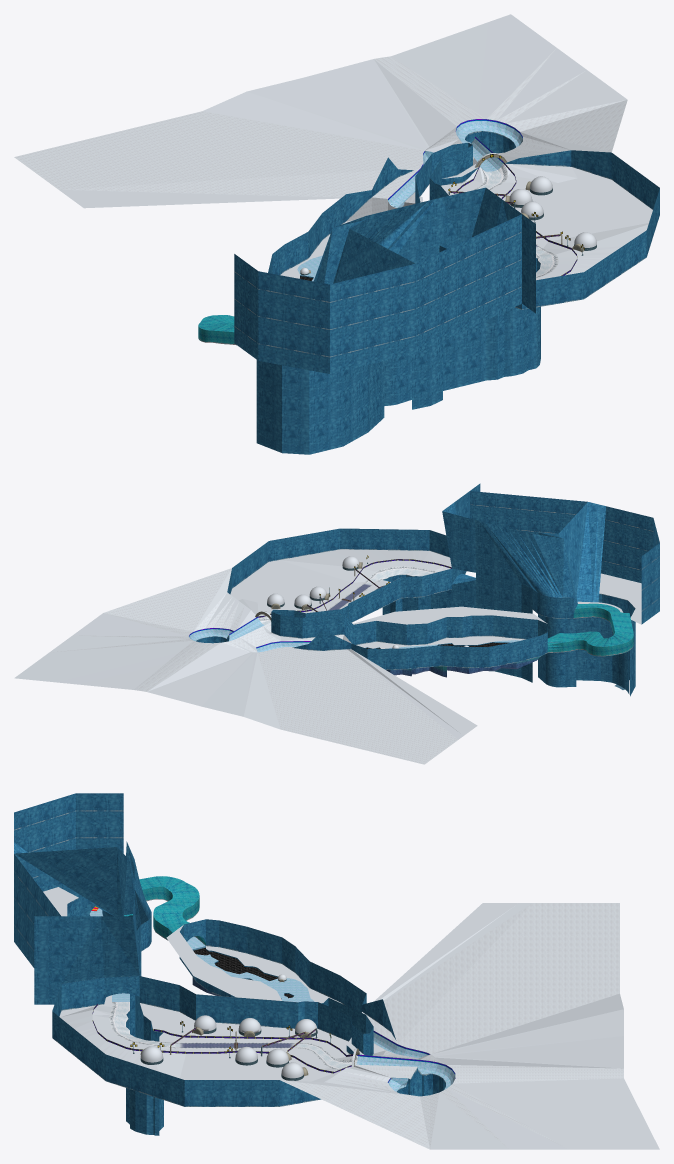
3 renders of one model, top to bottom at view 1: azimuth 30°, elevation 25°; view 2: azimuth 150°, elevation 25°; view 3: azimuth 270°, elevation 25°, orthographic. The views are drawn at different scales.
Visible parts, largest first — view 1: rosalinas_ice_world3_Main_snow, rosalinas_ice_world3_Main_icewall, rosalinas_ice_world3_c_Component_10_snow, rosalinas_ice_world3_Main_icewall2, rosalinas_ice_world3_Main_ice2, rosalinas_ice_world3_Main_snowroad2; view 2: rosalinas_ice_world3_Main_snow, rosalinas_ice_world3_Main_icewall, rosalinas_ice_world3_c_Component_10_snow, rosalinas_ice_world3_Main_icewall2, rosalinas_ice_world3_Main_icewall4, rosalinas_ice_world3_Main_icewall3, rosalinas_ice_world3_Main_ice2, rosalinas_ice_world3_Main_seawall, rosalinas_ice_world3_Main_snowroad2; view 3: rosalinas_ice_world3_Main_snow, rosalinas_ice_world3_c_Component_10_snow, rosalinas_ice_world3_Main_icewall, rosalinas_ice_world3_Main_icewall2, rosalinas_ice_world3_Main_ice2, rosalinas_ice_world3_Main_icewall4, rosalinas_ice_world3_Main_snowroad2, rosalinas_ice_world3_Main_rosalinawall, rosalinas_ice_world3_Main_icewall3, rosalinas_ice_world3_Main_yo_wave_tex, rosalinas_ice_world3_Main_rosalinaroad.
Part boxes in pixels (x1,y1,x2,y2): rosalinas_ice_world3_Main_snow: (59,14,652,280); rosalinas_ice_world3_Main_icewall: (234,131,659,373); rosalinas_ice_world3_c_Component_10_snow: (14,48,627,203); rosalinas_ice_world3_Main_icewall2: (256,187,540,454); rosalinas_ice_world3_Main_ice2: (297,121,522,281); rosalinas_ice_world3_Main_snowroad2: (473,164,558,278); rosalinas_ice_world3_Main_snow: (14,549,641,739); rosalinas_ice_world3_Main_icewall: (196,491,659,669); rosalinas_ice_world3_c_Component_10_snow: (53,568,458,764); rosalinas_ice_world3_Main_icewall2: (382,483,635,696); rosalinas_ice_world3_Main_icewall4: (547,603,633,646); rosalinas_ice_world3_Main_icewall3: (547,607,633,656); rosalinas_ice_world3_Main_ice2: (189,618,521,652); rosalinas_ice_world3_Main_seawall: (385,654,544,677); rosalinas_ice_world3_Main_snowroad2: (258,566,437,624); rosalinas_ice_world3_Main_snow: (43,887,659,1149); rosalinas_ice_world3_c_Component_10_snow: (280,903,623,1149); rosalinas_ice_world3_Main_icewall: (14,793,445,1106); rosalinas_ice_world3_Main_icewall2: (14,841,163,1135); rosalinas_ice_world3_Main_ice2: (89,908,455,1091); rosalinas_ice_world3_Main_icewall4: (124,876,199,932); rosalinas_ice_world3_Main_snowroad2: (109,1002,357,1069); rosalinas_ice_world3_Main_rosalinawall: (92,1004,356,1073); rosalinas_ice_world3_Main_icewall3: (128,886,205,945); rosalinas_ice_world3_Main_yo_wave_tex: (193,947,293,998); rosalinas_ice_world3_Main_rosalinaroad: (187,1042,289,1048).
Bounding box in the file's own units: 124475 × 40782 × 126562.
39 materials, 39 textured.
